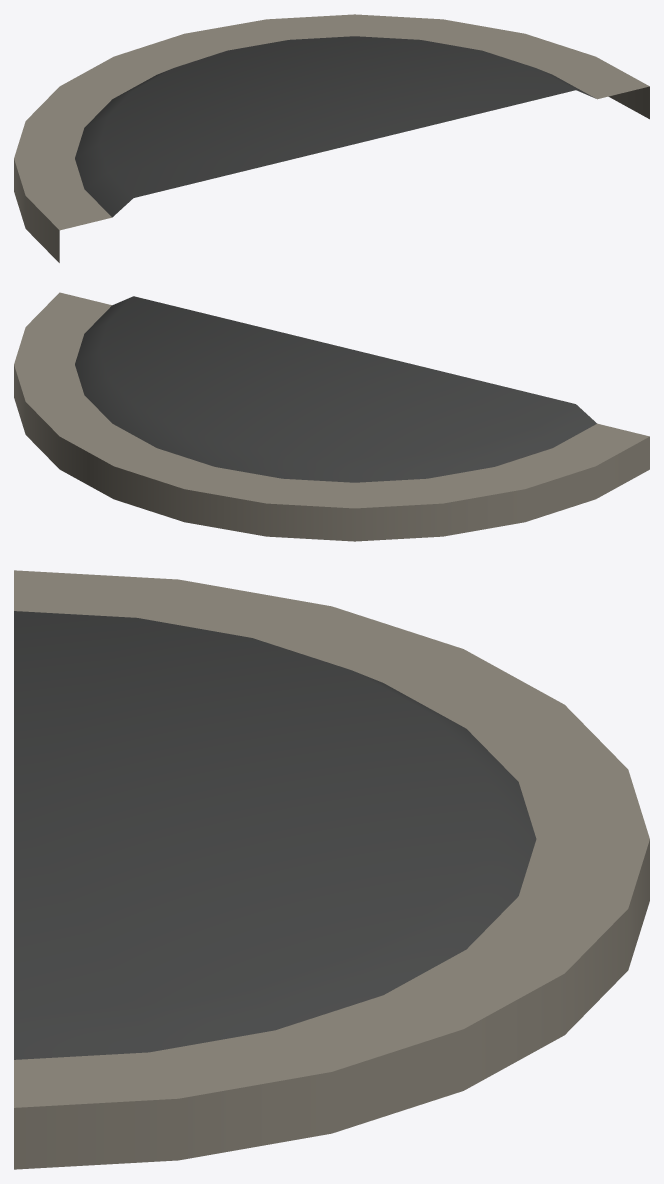
File: RoadMid_3_D.glb
3 renders of one model, top to bottom at view 1: azimuth 30°, elevation 25°; view 2: azimuth 150°, elevation 25°; view 3: azimuth 270°, elevation 25°, orthographic. The views are drawn at different scales.
Parts seen in each view (by area): view 1: RoadMid_3_D; view 2: RoadMid_3_D; view 3: RoadMid_3_D.
Part boxes in pixels (left/top/right/bottom): RoadMid_3_D: left=14, top=14, right=649, bottom=262; RoadMid_3_D: left=14, top=292, right=649, bottom=541; RoadMid_3_D: left=14, top=570, right=649, bottom=1169.
Size of the model in its own units: 2.99 by 0.2296 by 1.5.
1 material, 1 textured.
